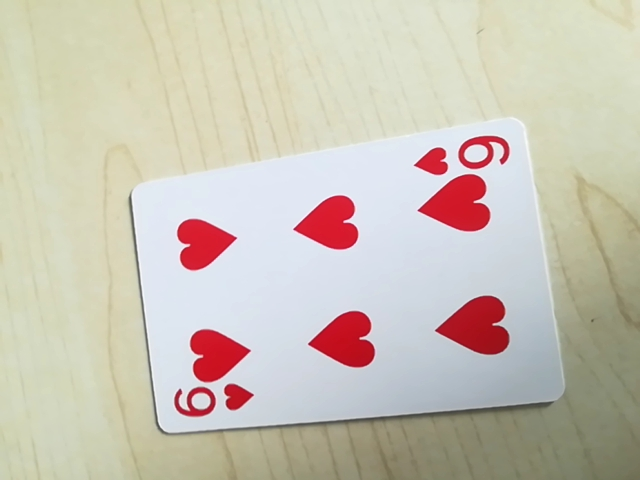hx 6: (414, 129, 513, 177), (169, 378, 257, 429)
